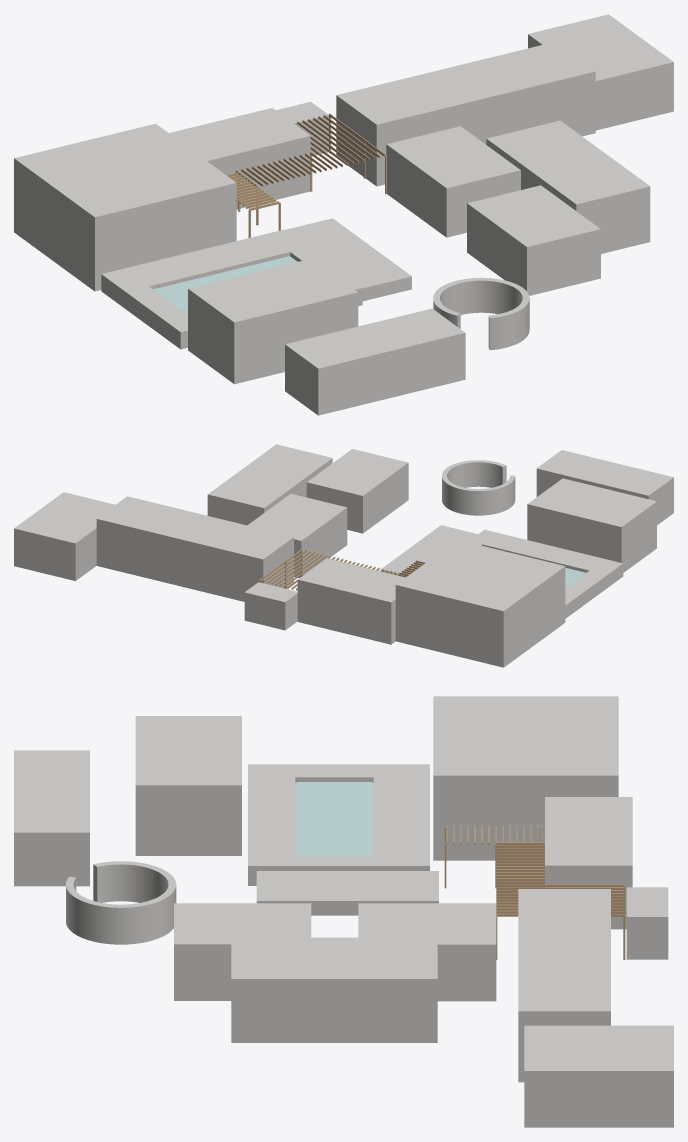
File: villa-M-arch.glb
3 renders of one model, top to bottom at view 1: azimuth 30°, elevation 25°; view 2: azimuth 150°, elevation 25°; view 3: azimuth 270°, elevation 25°, orthographic. The views are drawn at different scales.
Visible parts, largest first — view 1: n0, n3, n8, n9, n6, n7, n5, n4, n1, n11, n17, n10 (+4 smaller); view 2: n0, n3, n8, n1, n4, n6, n7, n9, n5, n17, n12, n2 (+3 smaller); view 3: n0, n7, n4, n8, n3, n9, n5, n6, n1, n17, n10, n11 (+5 smaller).
Boxes of the visible parts, box(x1,y1,x2,y2) form: n0: box(14, 123, 236, 291); n3: box(336, 42, 595, 186); n8: box(188, 258, 358, 384); n9: box(285, 308, 465, 415); n6: box(467, 185, 600, 295); n7: box(486, 120, 650, 253); n5: box(386, 126, 520, 237); n4: box(528, 14, 673, 130); n1: box(169, 108, 310, 208); n11: box(101, 230, 307, 308); n17: box(433, 277, 529, 350); n10: box(284, 218, 411, 301); n0: box(395, 540, 565, 667); n3: box(96, 496, 293, 601); n8: box(527, 478, 656, 572); n1: box(297, 558, 405, 644); n4: box(14, 492, 115, 580); n6: box(306, 449, 408, 533); n7: box(207, 444, 332, 525); n9: box(536, 450, 673, 525); n5: box(247, 493, 347, 577); n17: box(442, 460, 515, 515); n12: box(469, 529, 623, 587); n2: box(244, 582, 297, 630); n0: box(433, 696, 618, 860); n7: box(231, 937, 437, 1042); n4: box(524, 1025, 673, 1127); n8: box(135, 716, 241, 855); n3: box(518, 889, 610, 1082); n9: box(14, 750, 89, 886); n5: box(358, 903, 496, 1001); n6: box(174, 903, 311, 1000); n1: box(545, 797, 632, 929); n17: box(66, 861, 176, 944); n10: box(256, 871, 438, 915); n11: box(373, 764, 429, 870).
Bounding box in the file's own units: 52.4 × 6 × 42.23.
